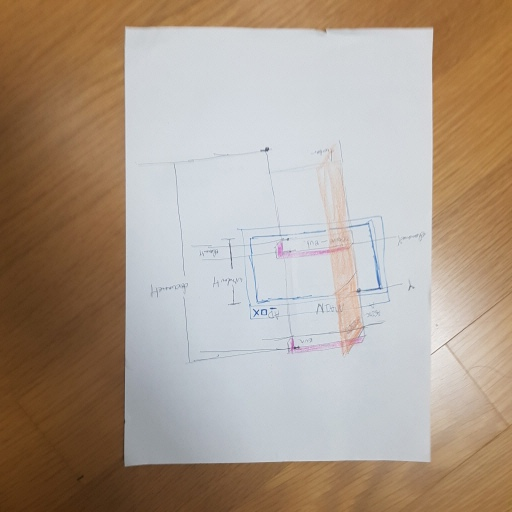Paper_2: (111, 13, 444, 477)
